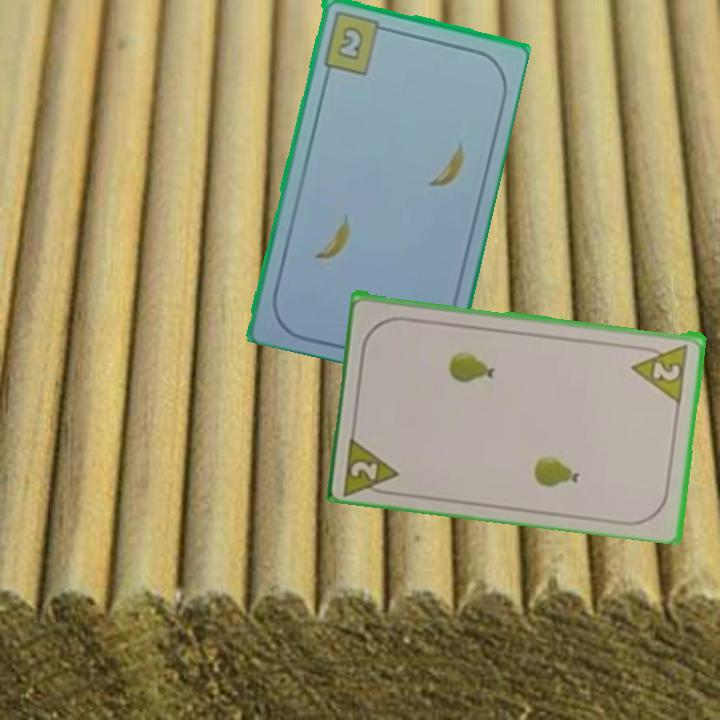2b: (319, 7, 390, 77)
2p: (340, 430, 403, 498), (629, 340, 691, 403)
